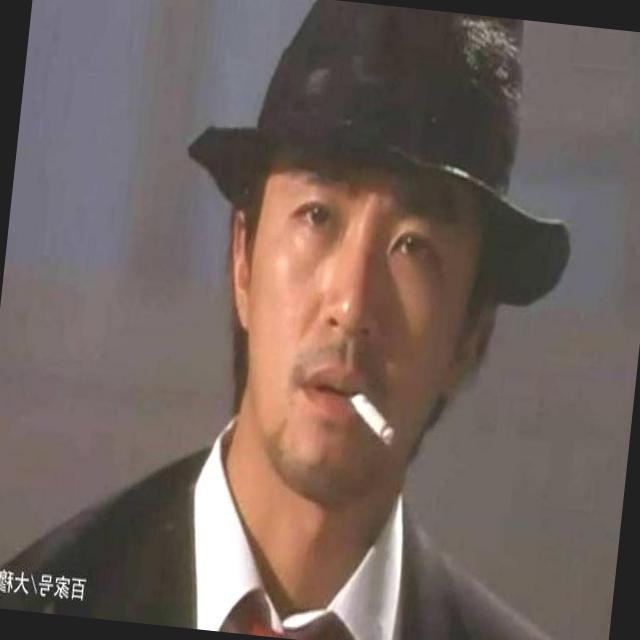smoke: (336, 379, 398, 446)
